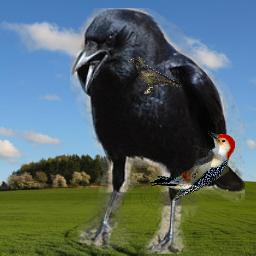Crow: (70, 8, 245, 254), (127, 57, 182, 94)
Woodpecker: (148, 131, 235, 201)
